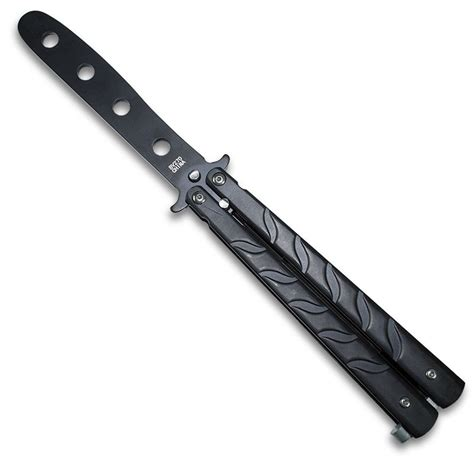knife: (13, 8, 468, 443)
